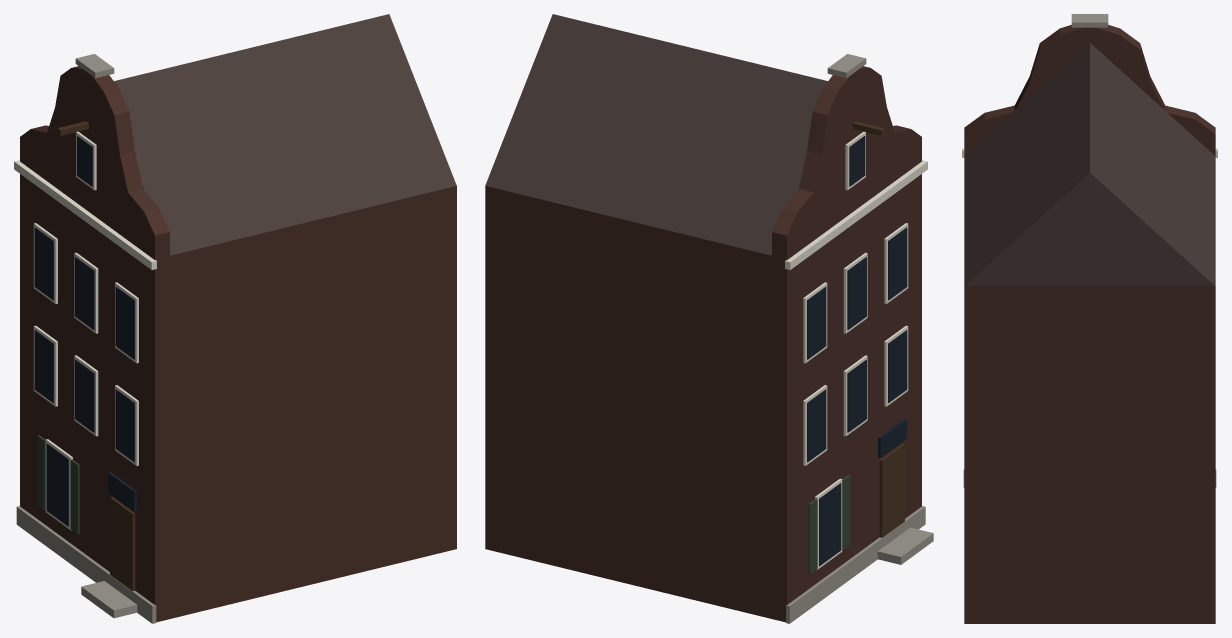
Rendered from gevel_klok.glb.
3 renders of one model, left to right at view 1: azimuth 30°, elevation 25°; view 2: azimuth 150°, elevation 25°; view 3: azimuth 270°, elevation 25°, orthographic. The views are drawn at different scales.
Visible parts, largest first — view 1: Gevel; view 2: Gevel; view 3: Gevel.
Boxes of the visible parts, x1,y1,x2,y2 form: Gevel: [14, 14, 456, 623]; Gevel: [485, 14, 933, 623]; Gevel: [962, 14, 1217, 623].
Size of the model in its own units: 8.75 by 12.87 by 6.32.
